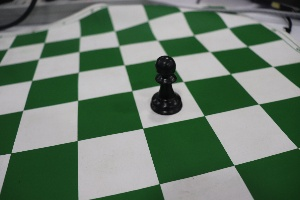black_pawn: (145, 45, 186, 120)
